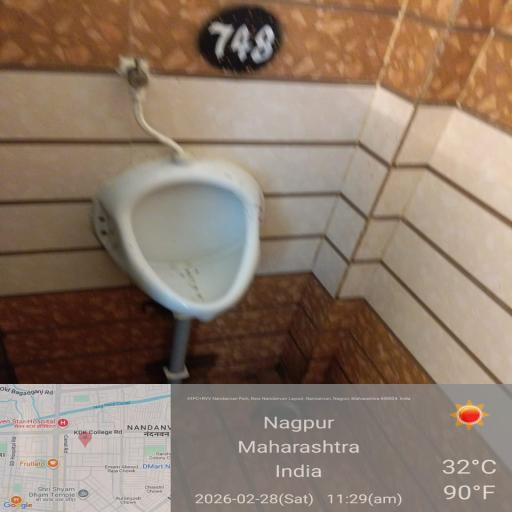clean_floor: (59, 34, 464, 170)
clean_urinal: (78, 153, 296, 336)
